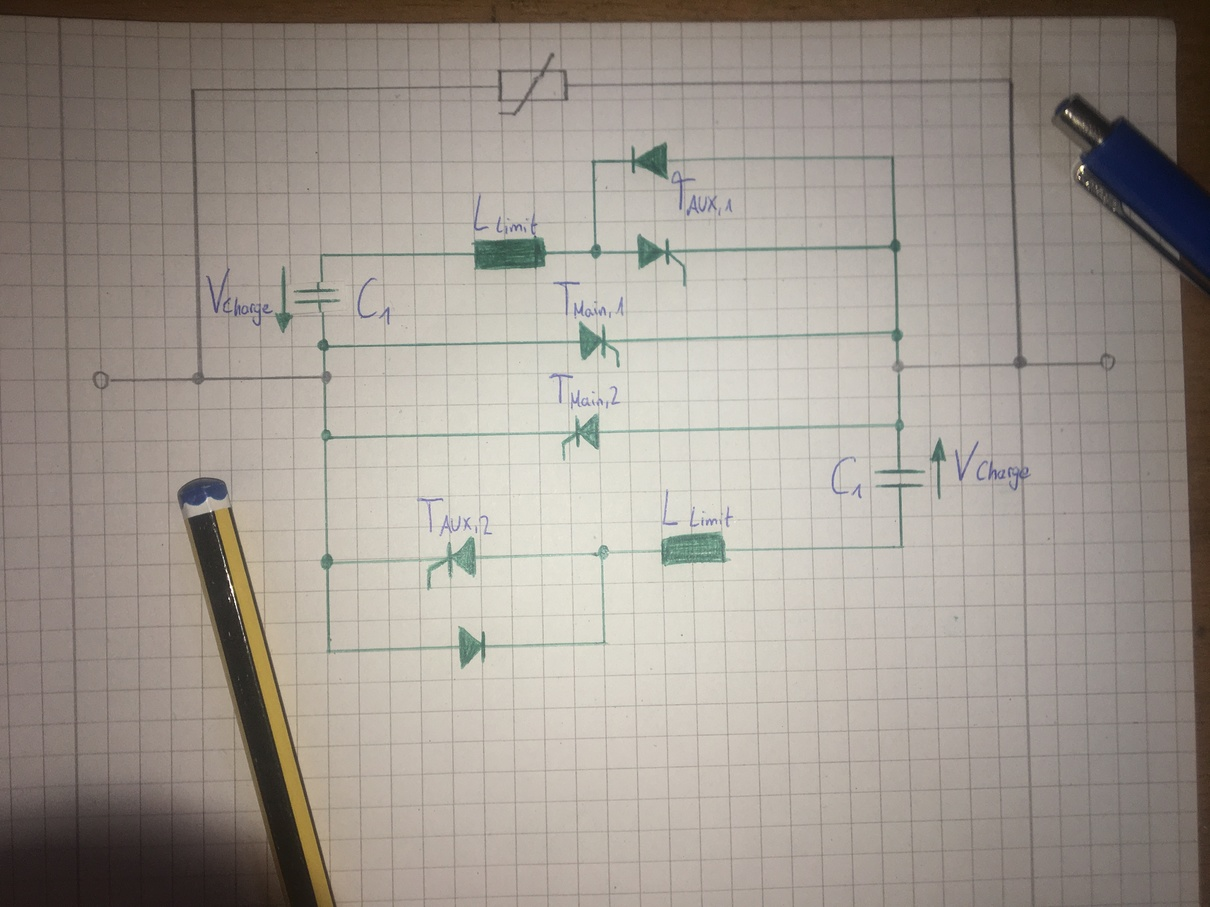capacitor.unpolarized: (293, 280, 342, 314), (872, 465, 929, 492)
diode: (629, 139, 671, 181), (456, 624, 488, 671)
inductor: (470, 235, 548, 272), (660, 530, 732, 567)
junction: (319, 552, 336, 571), (890, 358, 907, 375), (1011, 354, 1029, 370), (887, 237, 903, 254), (588, 242, 603, 260), (190, 370, 206, 386), (595, 543, 610, 560), (889, 328, 905, 343), (319, 369, 334, 385), (316, 337, 331, 352), (892, 417, 906, 432), (320, 427, 333, 443), (1004, 74, 1016, 86), (896, 541, 908, 552), (317, 250, 328, 261), (599, 637, 610, 647), (887, 152, 898, 162), (589, 157, 599, 168), (188, 85, 198, 95), (324, 646, 333, 657)
terminal: (90, 369, 114, 391), (1098, 351, 1118, 373)
text: (205, 266, 275, 327), (953, 440, 1031, 491), (416, 496, 494, 537), (547, 371, 622, 412), (551, 279, 626, 320), (669, 170, 734, 217), (471, 192, 540, 236), (661, 488, 734, 529), (355, 276, 393, 327), (830, 455, 865, 501)
thyristor: (424, 535, 479, 584), (636, 232, 689, 278), (577, 319, 623, 368), (559, 412, 602, 454)
varistor: (496, 51, 572, 118)
